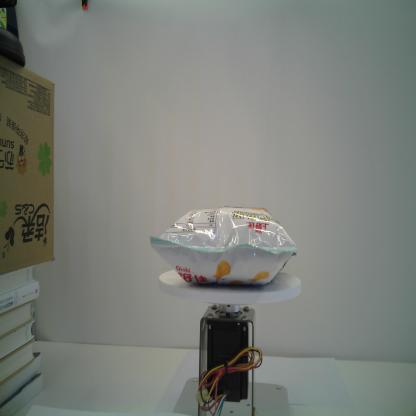Puffed Food: (149, 205, 297, 286)
